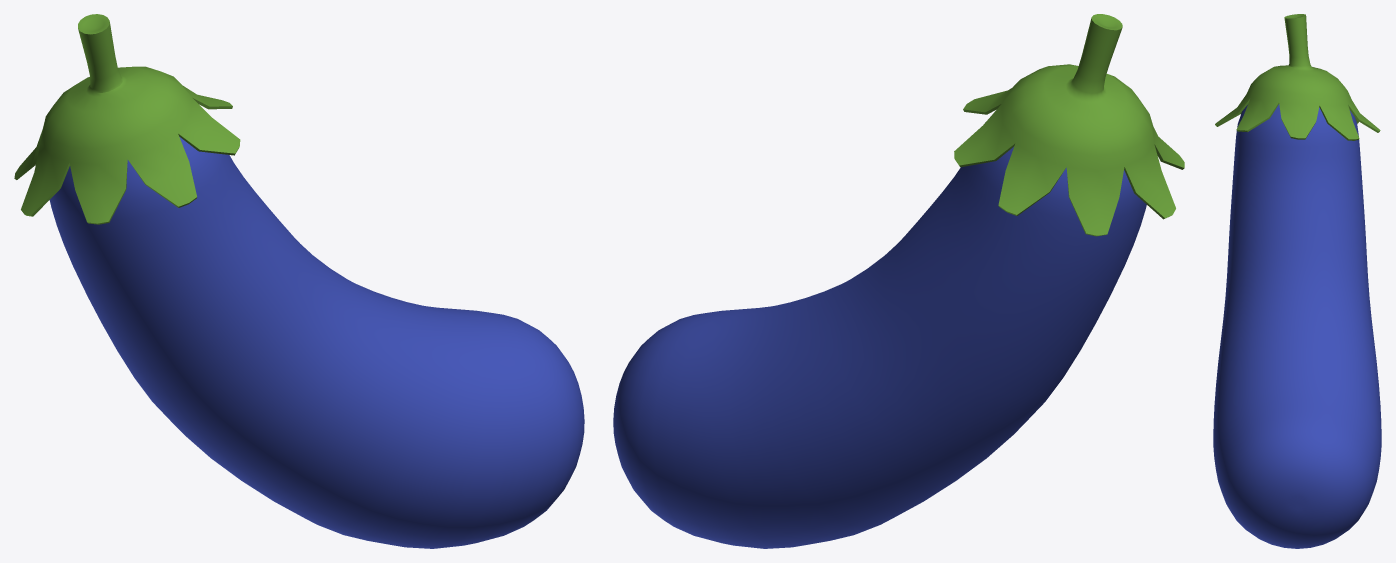
The model's file is eggplant.gltf.
The picture shows the model from 3 angles, left to right: view 1: azimuth 30°, elevation 25°; view 2: azimuth 150°, elevation 25°; view 3: azimuth 270°, elevation 25°; orthographic projection. The views are drawn at different scales.
Parts seen in each view (by area): view 1: Circle.043; view 2: Circle.043; view 3: Circle.043.
Boxes of the visible parts, box(x1,y1,x2,y2) form: Circle.043: box(14, 14, 584, 548); Circle.043: box(613, 14, 1184, 548); Circle.043: box(1213, 14, 1381, 548).
Bounding box in the file's own units: 2.16 × 2.3 × 0.8658.
Materials: 1 (1 with a texture image).
